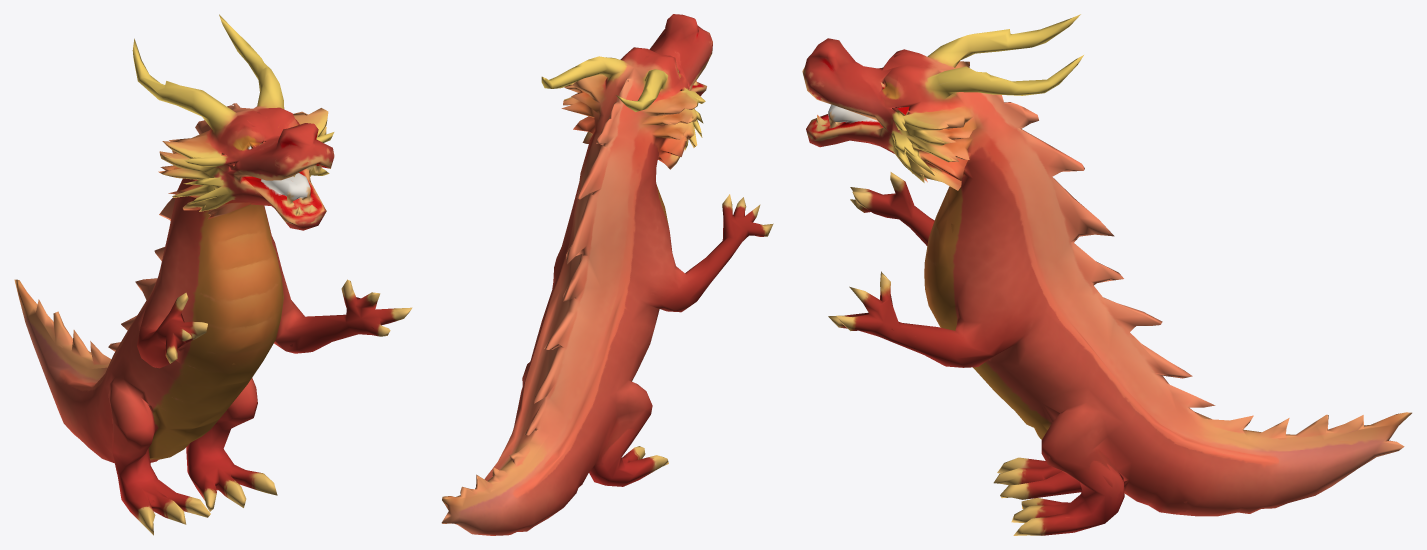
File: bein.glb
The picture shows the model from 3 angles, left to right: view 1: azimuth 30°, elevation 25°; view 2: azimuth 150°, elevation 25°; view 3: azimuth 270°, elevation 25°; orthographic projection. The views are drawn at different scales.
Size of the model in its own units: 0.4443 by 0.8646 by 0.9958.
Materials: 1 (1 with a texture image).
